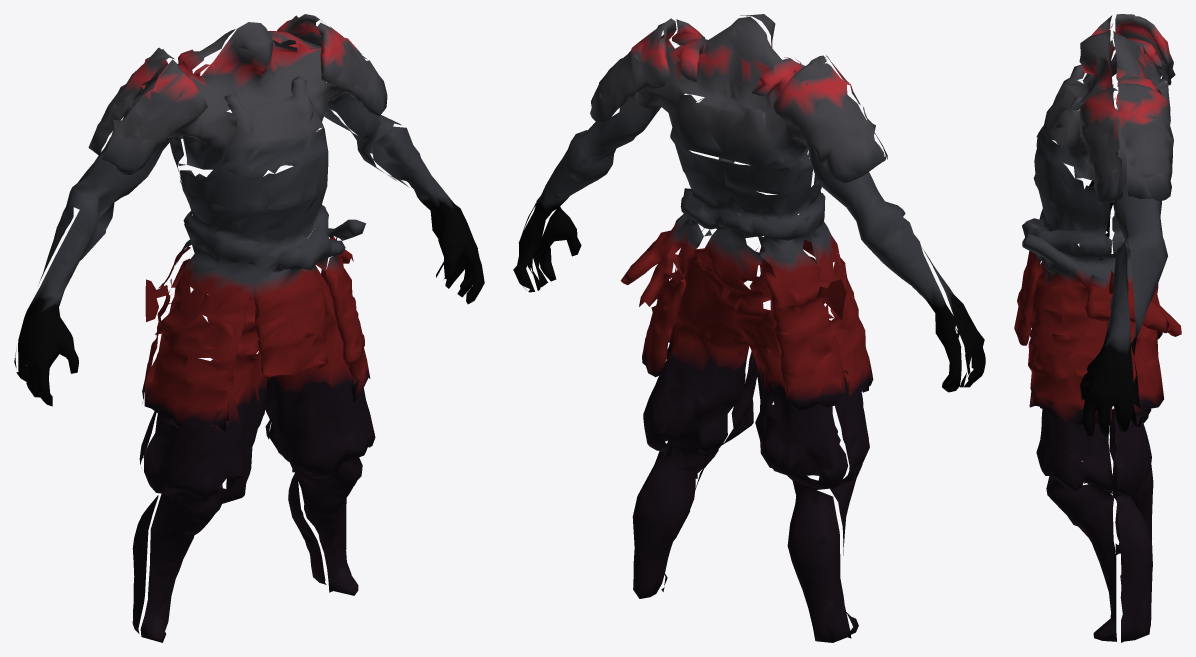
The model's file is ashigaru_v2d_colored.glb.
The picture shows the model from 3 angles, left to right: view 1: azimuth 30°, elevation 25°; view 2: azimuth 150°, elevation 25°; view 3: azimuth 270°, elevation 25°; orthographic projection. The views are drawn at different scales.
Parts seen in each view (by area): view 1: world; view 2: world; view 3: world.
Part boxes in pixels (x1=…): world: x1=14, y1=14, x2=484, y2=642; world: x1=513, y1=14, x2=985, y2=642; world: x1=1014, y1=14, x2=1181, y2=642.
Bounding box in the file's own units: 1.36 × 1.7 × 0.4573.
